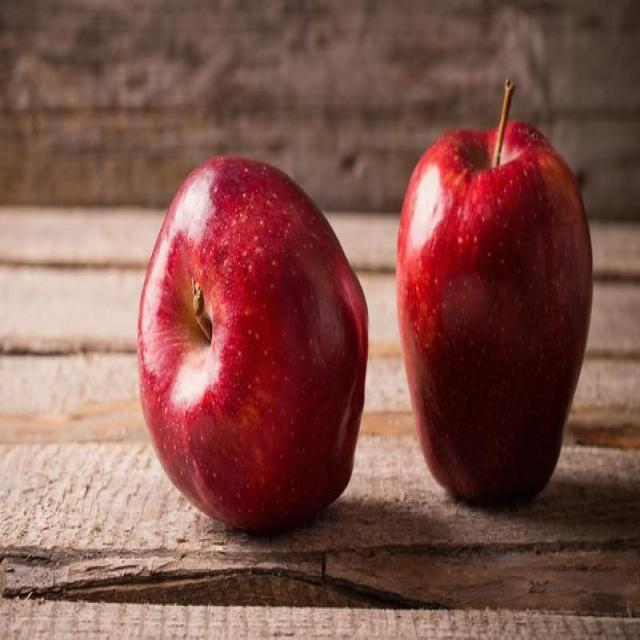Fresh Apple: (410, 115, 582, 520), (154, 173, 358, 505)
